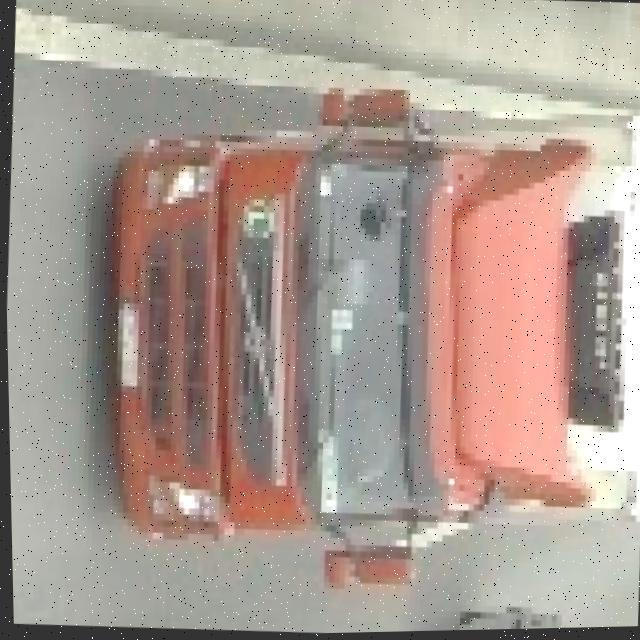truck: (88, 72, 640, 622)
